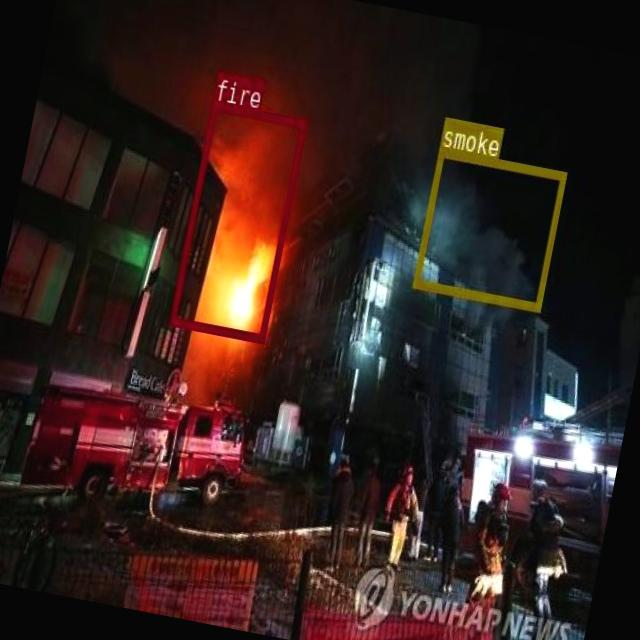fire: (168, 101, 306, 342)
smoke: (412, 147, 566, 310)
